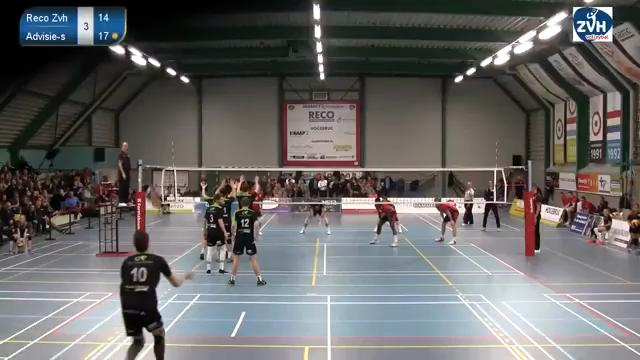Player: (120, 231, 192, 359), (228, 197, 266, 285), (205, 193, 230, 273), (370, 196, 398, 246), (236, 175, 261, 223), (434, 197, 458, 244), (300, 197, 330, 234), (217, 183, 235, 232), (627, 204, 639, 253), (374, 193, 383, 219)
